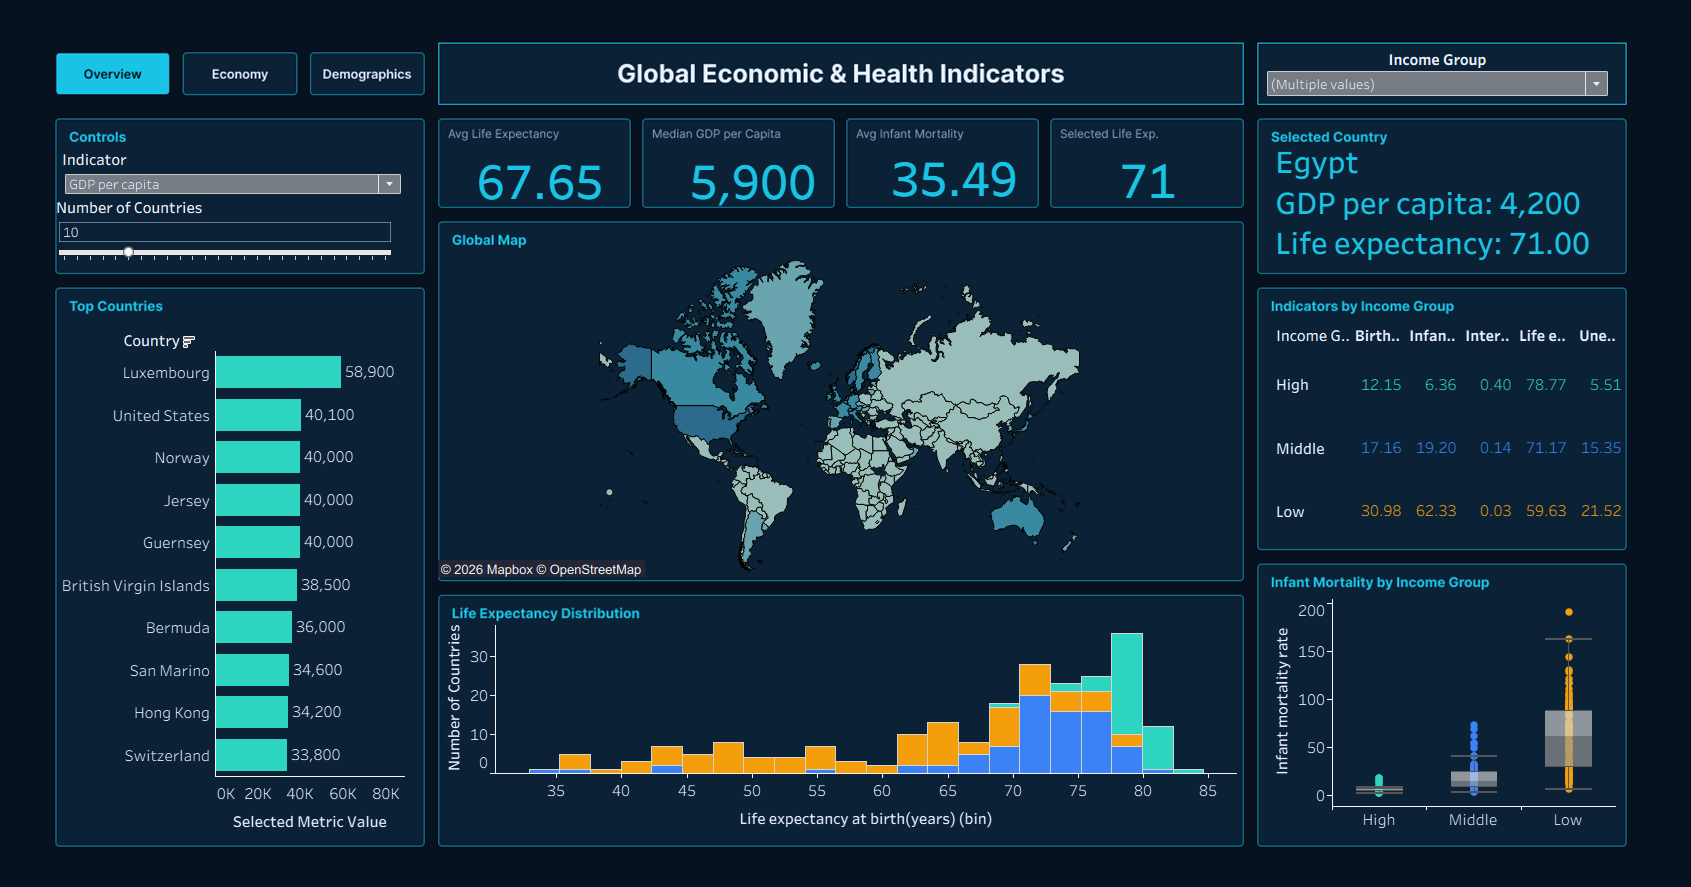

Layout of this report page (visuals, bound fields, positions):
{"tool":"tableau","page":{"name":"Dashboard 1","canvas":[1657,861],"ordinal":0},"visuals":[{"type":"image","param":"F:/DEPI/Mini Projects/Mini Project 3/D1 - Overview.png","box":[8,8,1641,845]},{"type":"filter","title":"Heatmap","param":"[federated.1wt7dck05r5s2l1c8t8xi11wyjcn].[none:Calculation_0835963271385095:nk]","box":[1251,32,347,48]},{"type":"dashboard-object","box":[30,48,117,45]},{"type":"dashboard-object","box":[160,48,117,45]},{"type":"dashboard-object","box":[290,48,117,45]},{"type":"worksheet","title":"Selected Country","mark":"Automatic","box":[1226,123,404,135]},{"type":"worksheet","title":"KPI Infant","mark":"Automatic","box":[869,128,140,73]},{"type":"worksheet","title":"KPI Selected","mark":"Automatic","box":[1095,130,89,68]},{"type":"worksheet","title":"KPI Life","mark":"Automatic","box":[457,131,140,74]},{"type":"worksheet","title":"KPI GDP","mark":"Automatic","box":[670,131,143,70]},{"type":"parameter","param":"[Parameters].[Parameter 0835963267944448]","box":[49,132,342,48]},{"type":"parameter","param":"[Parameters].[Parameter 0835963268968449]","box":[43,180,338,71]},{"type":"worksheet","title":"Map","mark":"Multipolygon","box":[422,229,809,333]},{"type":"worksheet","title":"Heatmap","mark":"Automatic","rows":["Calculation_0835963271385095"],"box":[1257,300,355,226]},{"type":"worksheet","title":"Top Countries","mark":"Automatic","rows":["Country"],"cols":["Calculation_0835963271819272"],"box":[42,314,350,508]},{"type":"worksheet","title":"Box Plot","mark":"Circle","rows":["Infant mortality rate(deaths/1000 live births)"],"cols":["Calculation_0835963271385095"],"box":[1251,582,352,232]},{"type":"worksheet","title":"Life Expectancy Distribution","mark":"Automatic","rows":["Life expectancy at birth(years)"],"cols":["Life expectancy at birth(years) (bin)"],"box":[423,608,801,211]}]}

Visuals, with their boxes in screenshot pixels (x1, y1, x2, y2), scaled from the page's 1657x861 canvas onto the 1691x887 screenshot:
image: rect(8, 8, 1683, 879)
"Heatmap" filter: rect(1277, 33, 1631, 82)
dashboard-object: rect(31, 49, 150, 96)
dashboard-object: rect(163, 49, 283, 96)
dashboard-object: rect(296, 49, 415, 96)
"Selected Country" worksheet: rect(1251, 127, 1663, 266)
"KPI Infant" worksheet: rect(887, 132, 1030, 207)
"KPI Selected" worksheet: rect(1117, 134, 1208, 204)
"KPI Life" worksheet: rect(466, 135, 609, 211)
"KPI GDP" worksheet: rect(684, 135, 830, 207)
parameter: rect(50, 136, 399, 185)
parameter: rect(44, 185, 389, 259)
"Map" worksheet (Multipolygon marks): rect(431, 236, 1256, 579)
"Heatmap" worksheet: rect(1283, 309, 1645, 542)
"Top Countries" worksheet: rect(43, 323, 400, 847)
"Box Plot" worksheet (Circle marks): rect(1277, 600, 1636, 839)
"Life Expectancy Distribution" worksheet: rect(432, 626, 1249, 844)
